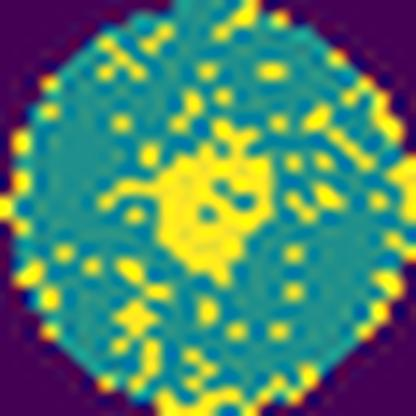Center: (94, 120, 283, 292)
